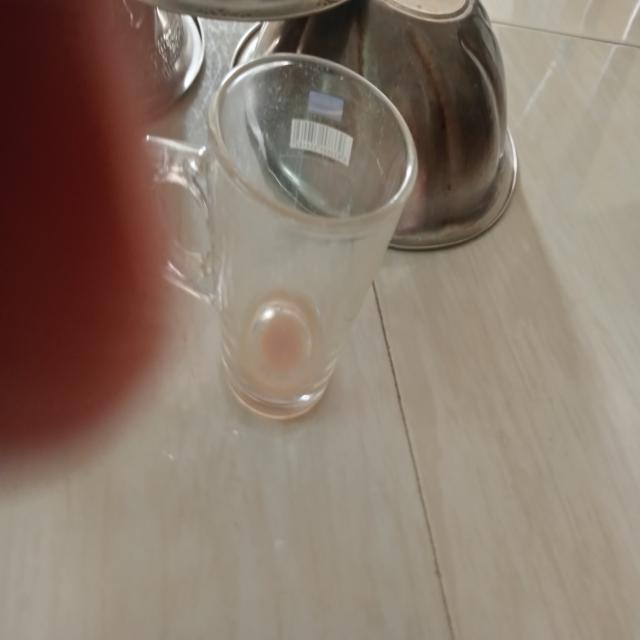glass-VX4N: (170, 54, 417, 433)
